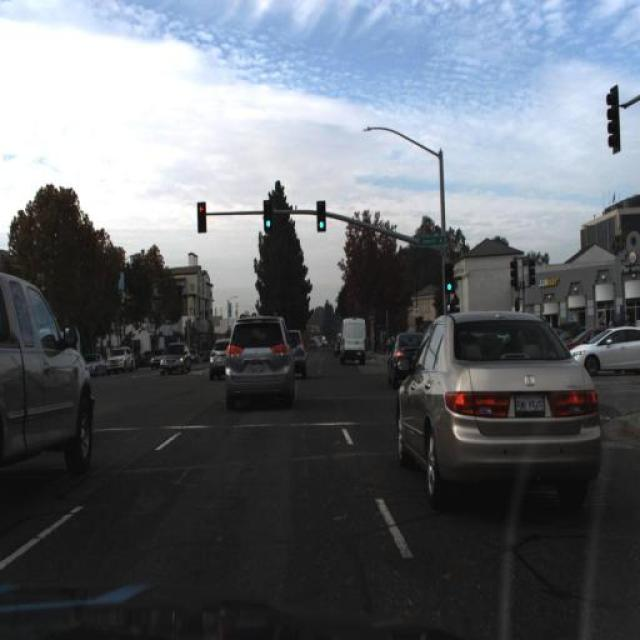car: (394, 299, 605, 502), (0, 276, 98, 500), (218, 307, 297, 415), (384, 322, 430, 402), (568, 322, 638, 373), (287, 323, 311, 392), (336, 315, 369, 365), (155, 338, 190, 377), (206, 336, 229, 386), (106, 346, 133, 376)
trafficLight-Green: (442, 262, 457, 298), (262, 198, 273, 234), (198, 202, 208, 234), (316, 201, 326, 231)
